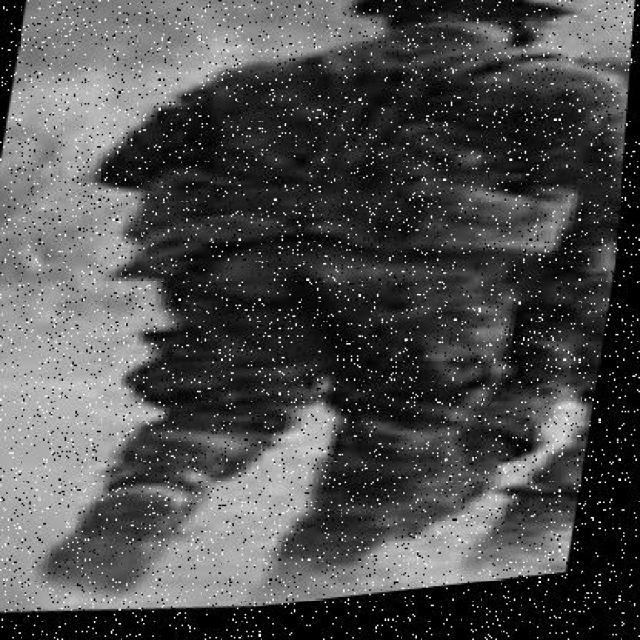MIL_Pax: (95, 0, 576, 628)
